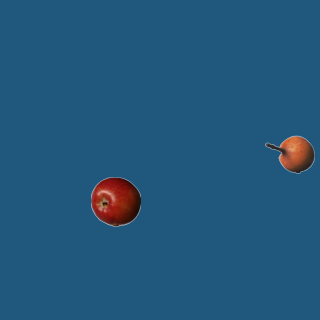Apple Braeburn: (90, 176, 140, 226)
Granadilla: (264, 129, 314, 179)
